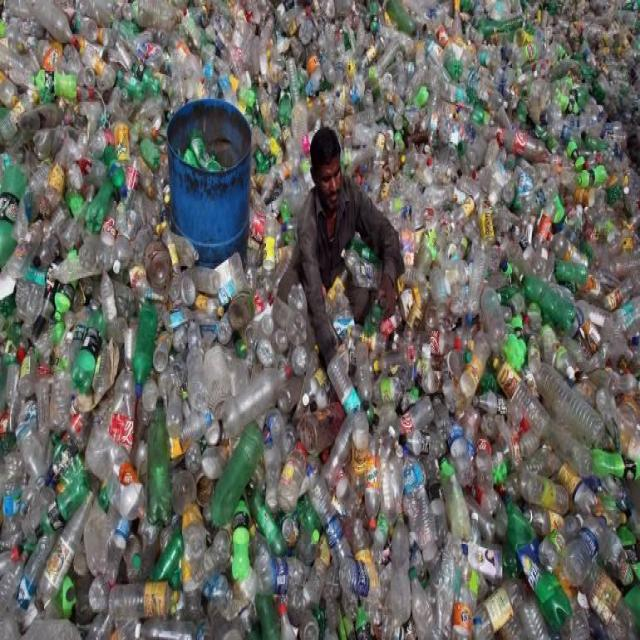heap: (4, 4, 640, 640)
plastic_bottle: (499, 487, 572, 638), (533, 360, 609, 448), (305, 462, 360, 570), (491, 351, 552, 446), (41, 494, 97, 597), (212, 425, 263, 530), (402, 452, 444, 573), (218, 364, 298, 424), (468, 569, 531, 640), (37, 465, 97, 539), (519, 268, 575, 345), (565, 497, 610, 591), (146, 394, 174, 524), (438, 457, 475, 553), (109, 581, 186, 626), (388, 510, 417, 627), (331, 551, 391, 607), (495, 112, 546, 177), (167, 407, 227, 457), (133, 307, 161, 399), (32, 1, 78, 57), (480, 276, 512, 356), (76, 308, 106, 393), (330, 360, 368, 425), (53, 331, 75, 442), (229, 491, 253, 587), (30, 63, 83, 105), (514, 595, 560, 640), (555, 85, 591, 141), (456, 568, 484, 640), (145, 228, 173, 299), (108, 219, 139, 283), (181, 490, 207, 561), (89, 165, 114, 236), (188, 139, 226, 182), (108, 516, 129, 593), (153, 531, 185, 580), (362, 300, 392, 341), (443, 40, 468, 88), (606, 273, 635, 313), (284, 59, 306, 110), (114, 110, 133, 169), (175, 273, 201, 316), (408, 80, 435, 120), (471, 395, 508, 423), (575, 168, 611, 196), (138, 129, 162, 170), (109, 16, 139, 48), (419, 149, 438, 191), (263, 133, 286, 165), (470, 48, 499, 72), (259, 309, 278, 343)
